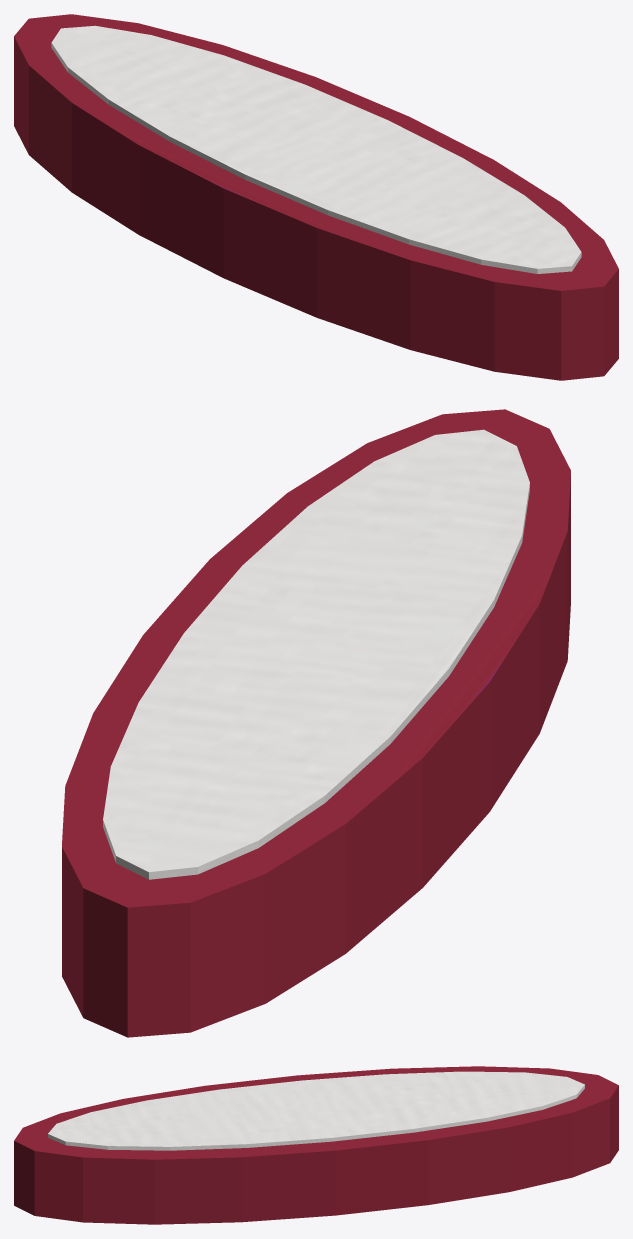
Rendered from fliparr.obj.
3 renders of one model, top to bottom at view 1: azimuth 30°, elevation 25°; view 2: azimuth 150°, elevation 25°; view 3: azimuth 270°, elevation 25°, orthographic. The views are drawn at different scales.
Parts seen in each view (by area): view 1: fliparr_PinballNuevo:phong1SG6.002, fliparr_PinballNuevo:phong2SG3.002; view 2: fliparr_PinballNuevo:phong1SG6.002, fliparr_PinballNuevo:phong2SG3.002; view 3: fliparr_PinballNuevo:phong1SG6.002, fliparr_PinballNuevo:phong2SG3.002.
Boxes of the visible parts, x1,y1,x2,y2 form: fliparr_PinballNuevo:phong1SG6.002: [14, 14, 618, 380]; fliparr_PinballNuevo:phong2SG3.002: [51, 25, 581, 273]; fliparr_PinballNuevo:phong1SG6.002: [62, 409, 570, 1037]; fliparr_PinballNuevo:phong2SG3.002: [103, 429, 529, 879]; fliparr_PinballNuevo:phong1SG6.002: [14, 1066, 618, 1224]; fliparr_PinballNuevo:phong2SG3.002: [48, 1071, 584, 1150].
Bounding box in the file's own units: 0.4463 × 0.1531 × 1.22.
2 materials, 2 textured.
